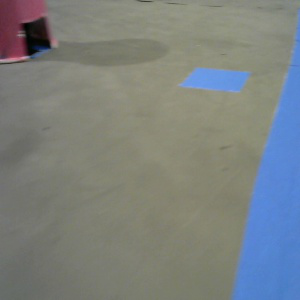middle: (1, 1, 58, 63)
